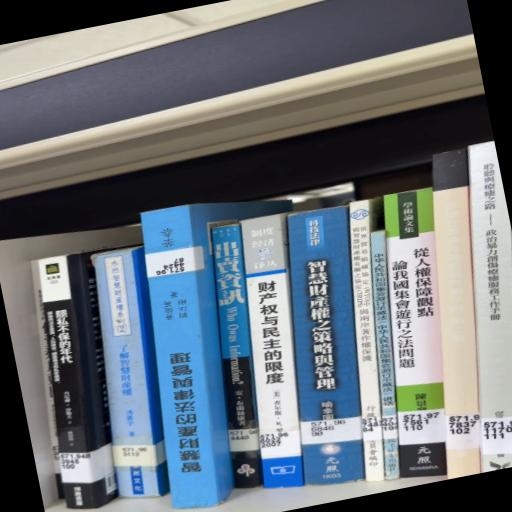reverse: (142, 202, 292, 509)
